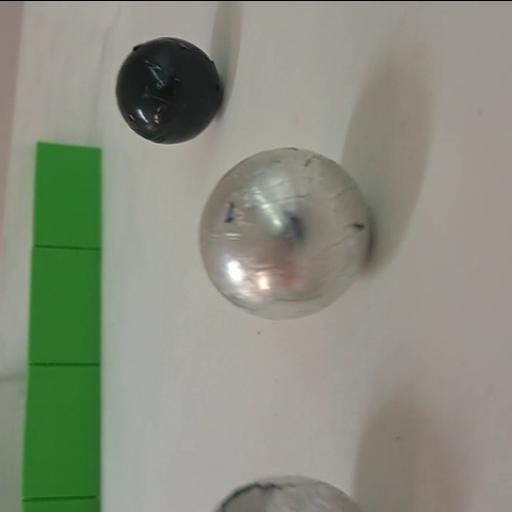alive: (198, 148, 376, 322), (206, 475, 372, 512)
dead: (116, 38, 222, 144)
